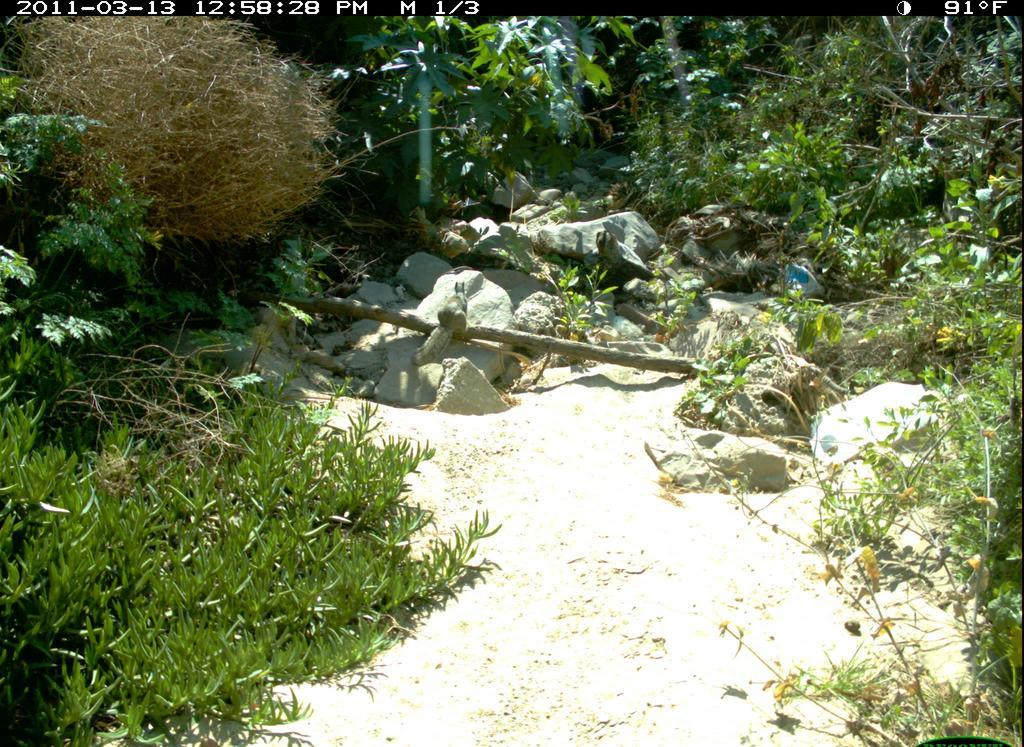squirrel: (406, 276, 483, 370)
